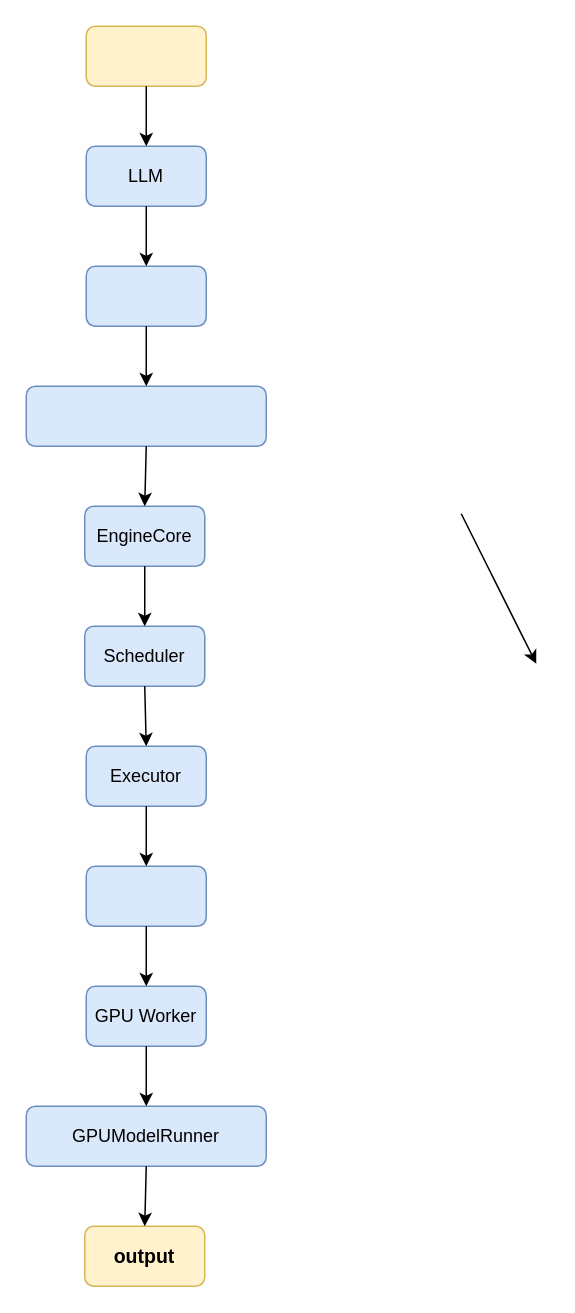
The diagram is 575 pixels wide and 1313 high, and some of its shapes have lost their labels. Here are the shapes that lost their labels. From the top down, the centre of each, then its label:
At point (145, 55): "prompt".
At point (145, 295): "LLMEngine".
At point (145, 415): "EngineCoreClient".
At point (145, 895): "WorkerProc".
